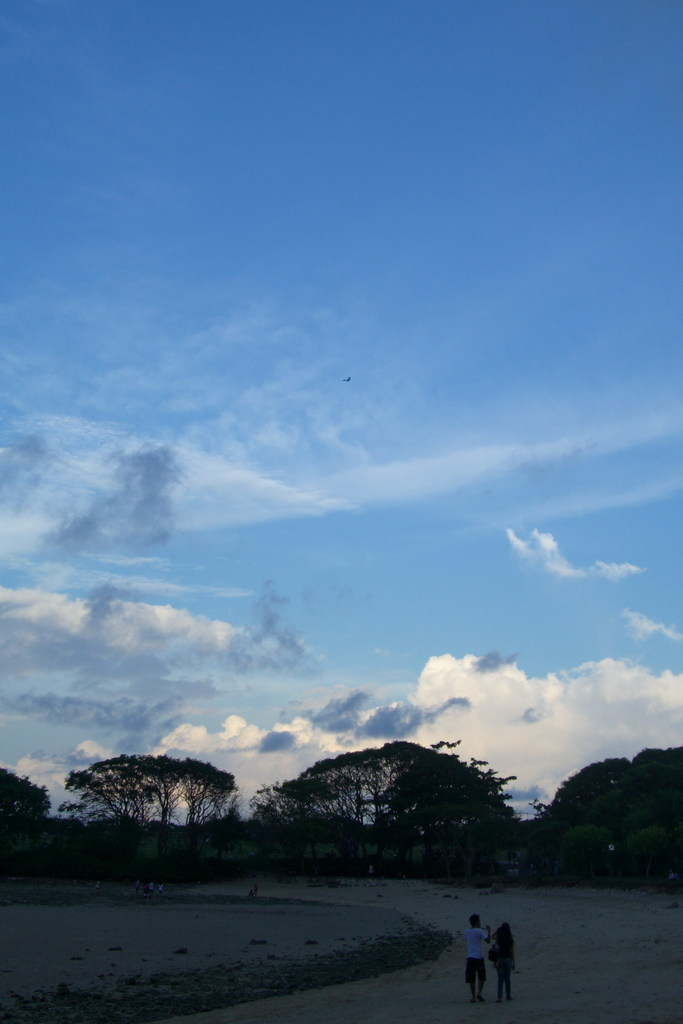Tree: (276, 749, 507, 862), (515, 737, 675, 890), (78, 747, 246, 836), (0, 764, 60, 833)
